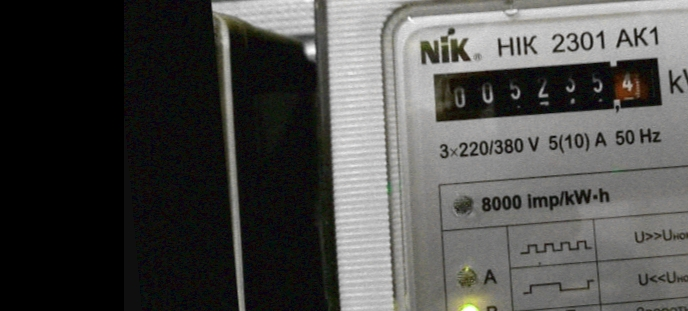0: (451, 83, 469, 111), (479, 79, 496, 105)
2: (534, 73, 550, 99)
3: (562, 68, 578, 95)
4: (619, 67, 636, 94)
5: (506, 75, 524, 103), (589, 67, 606, 95)
screen: (422, 44, 675, 135)
